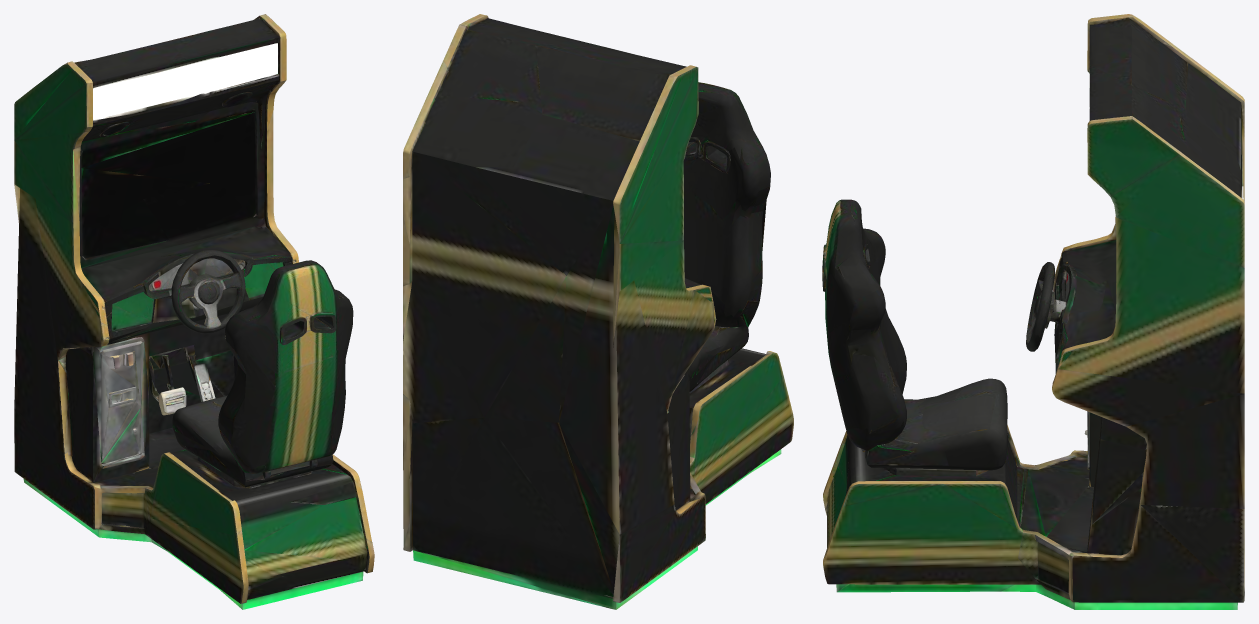
File: racer.glb
3 views of the same model, side by side, from view 1: azimuth 30°, elevation 25°; view 2: azimuth 150°, elevation 25°; view 3: azimuth 270°, elevation 25° (orthographic). The views are drawn at different scales.
Visible parts, largest first — view 1: Mesh_0; view 2: Mesh_0; view 3: Mesh_0.
Boxes of the visible parts, x1,y1,x2,y2 form: Mesh_0: [14, 14, 374, 609]; Mesh_0: [403, 14, 793, 609]; Mesh_0: [822, 14, 1244, 609].
Size of the model in its own units: 0.8696 by 1.9 by 1.47.
Materials: 1 (1 with a texture image).
